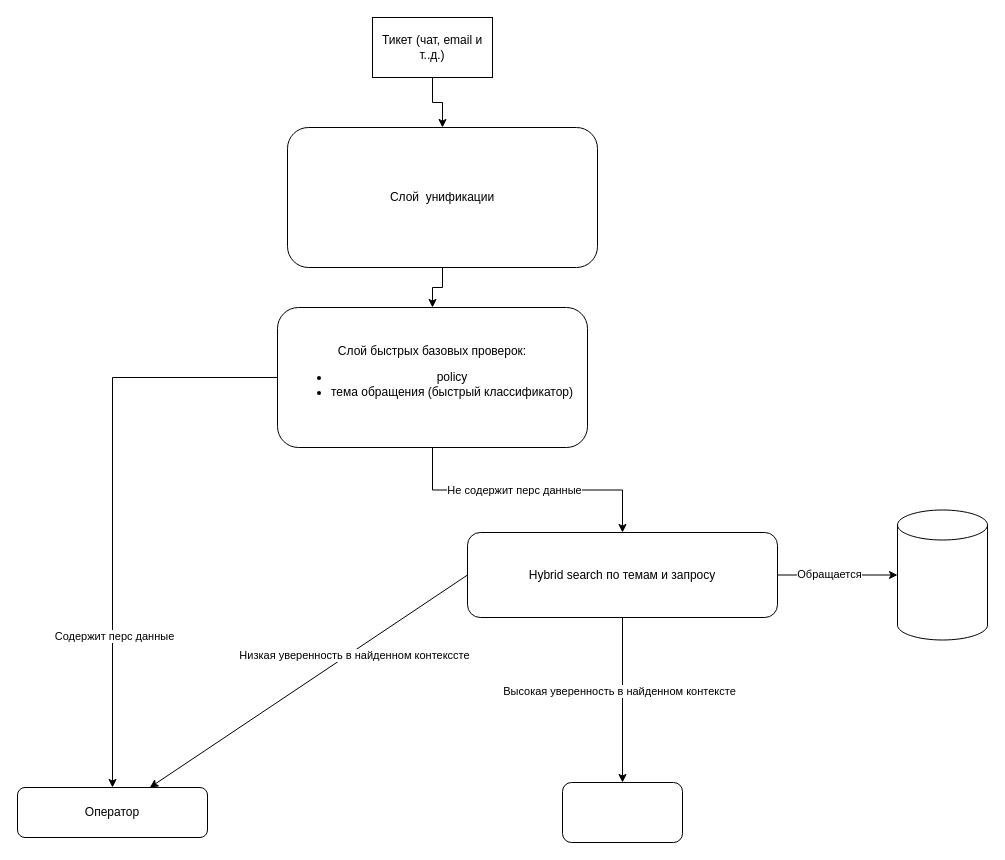
This 1005x860 diagram has some shape labels left out. The shapes that lost their labels are listed below. From the top down, each one's centre as x and y in pixels, then its label:
pixel 942 574: База знаний
pixel 622 812: LLM- ответ по контексту
